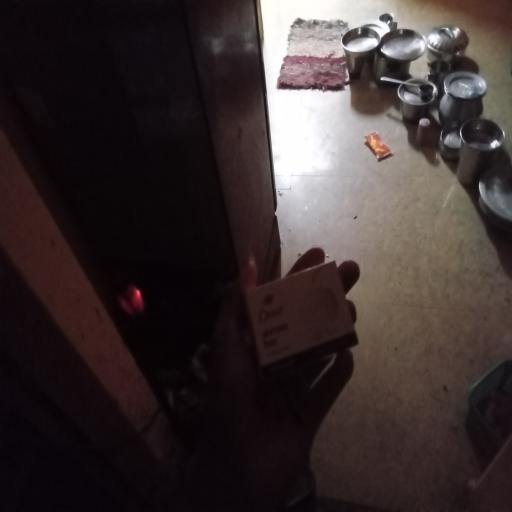Dove`1: (232, 254, 368, 380)
